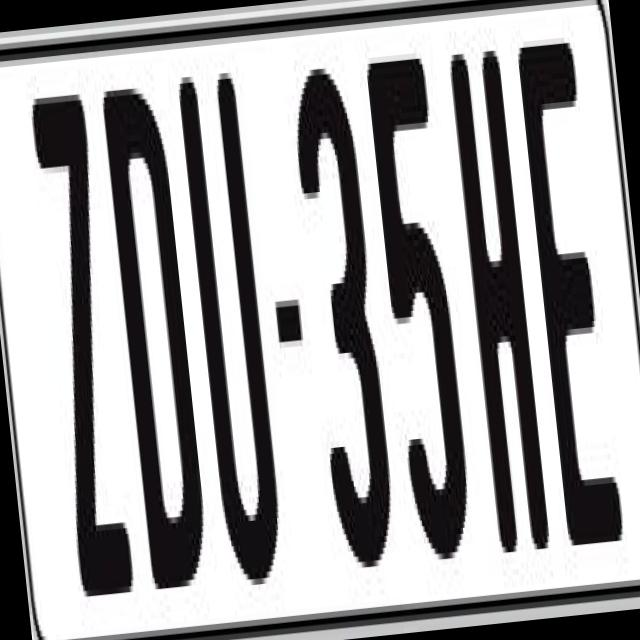3: (288, 66, 400, 586)
5: (364, 39, 479, 544)
D: (96, 80, 209, 607)
E: (512, 29, 628, 546)
H: (442, 32, 548, 564)
U: (174, 72, 284, 598)
Z: (29, 93, 140, 614)
